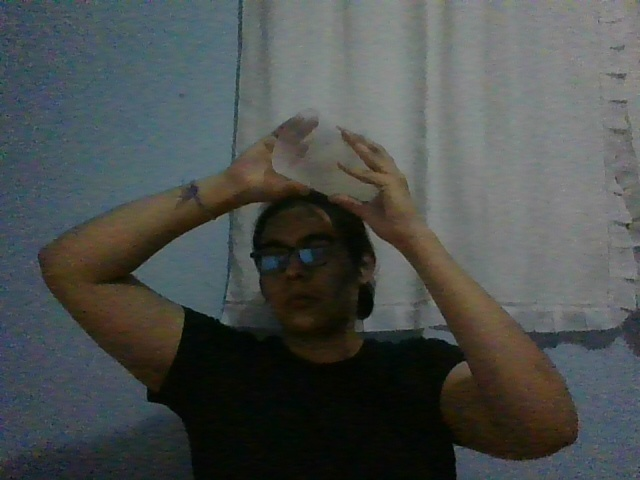vaso: (271, 107, 379, 202)
